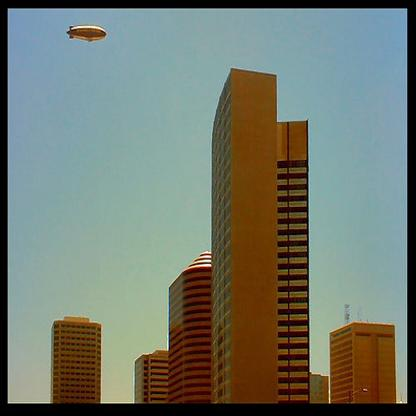Airship: (65, 23, 111, 46)
